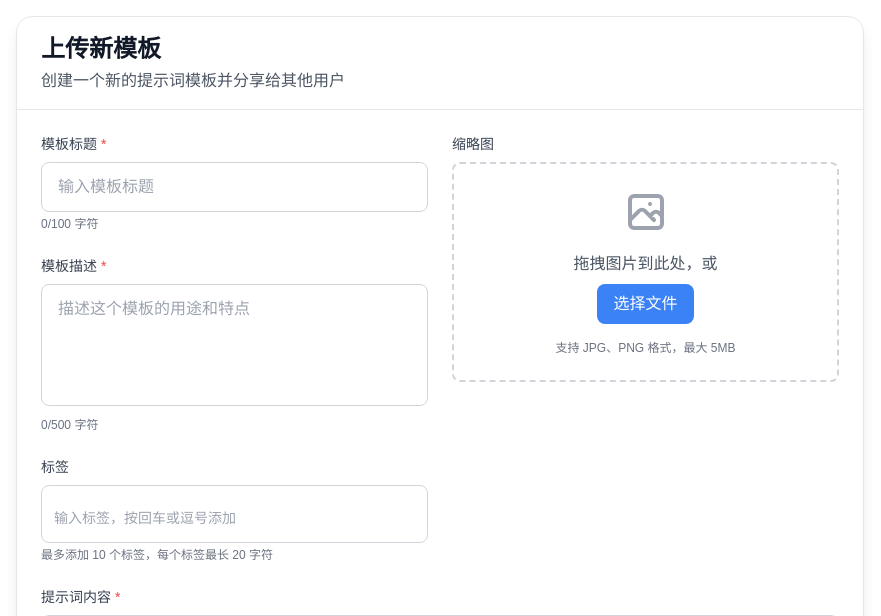
it: TemplateUpload Component › removes tags correctly
The width and height of the screenshot is (881, 616).
Note: Add a tag
Step 1. Type "测试标签" into the field with test id "tag-input" → (234, 518), box [54,508,415,528]
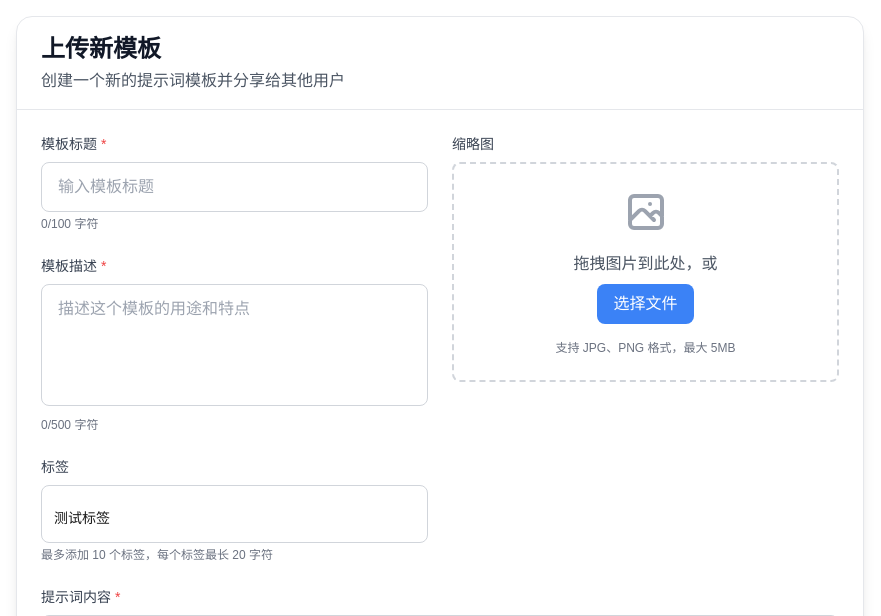
Step 2. Press Enter in the field with test id "tag-input", box [54,508,415,528]
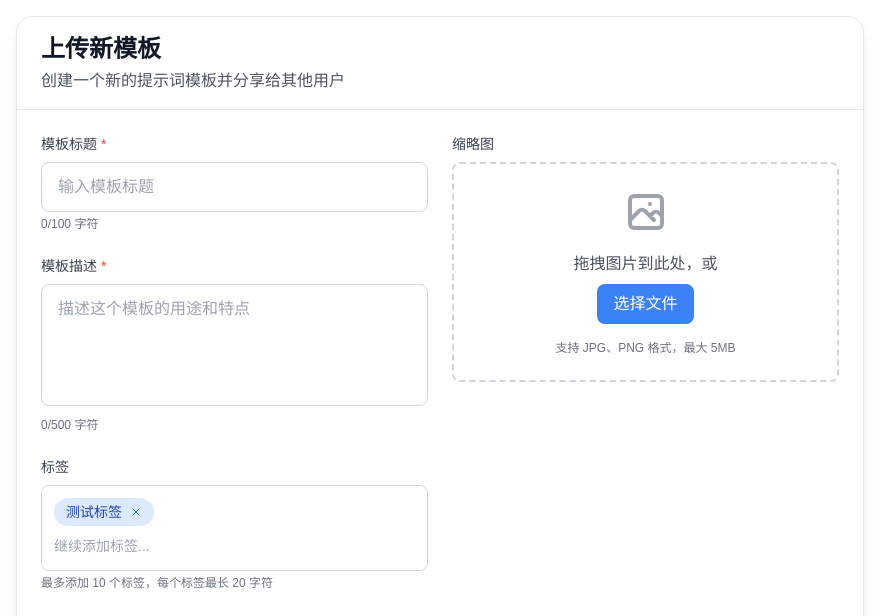
Now the element with test id "tag-0" is shown, box [54,498,154,526]
Note: Remove the tag
Step 3. Click the button with test id "remove-tag-0" → (136, 512), box [130,506,142,518]
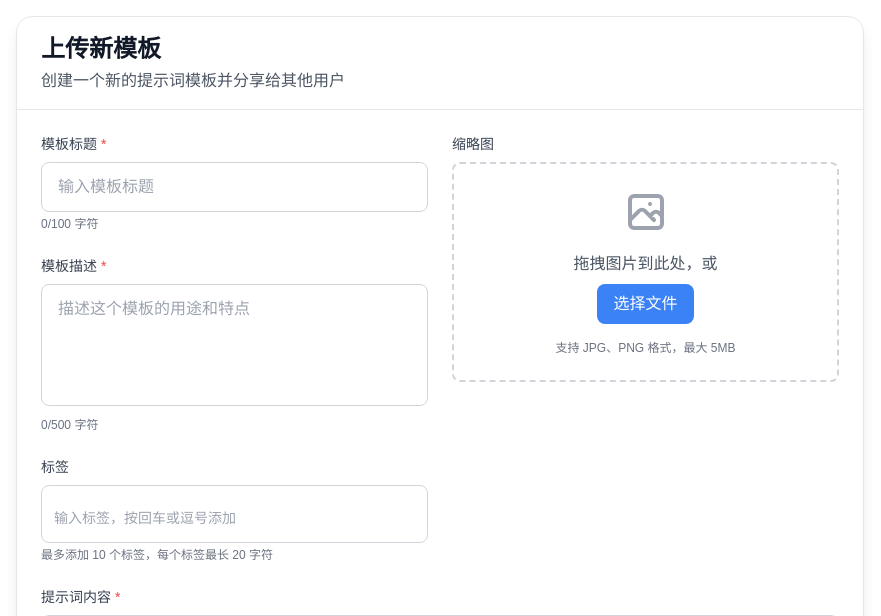
Now the element with test id "tag-0" is gone
